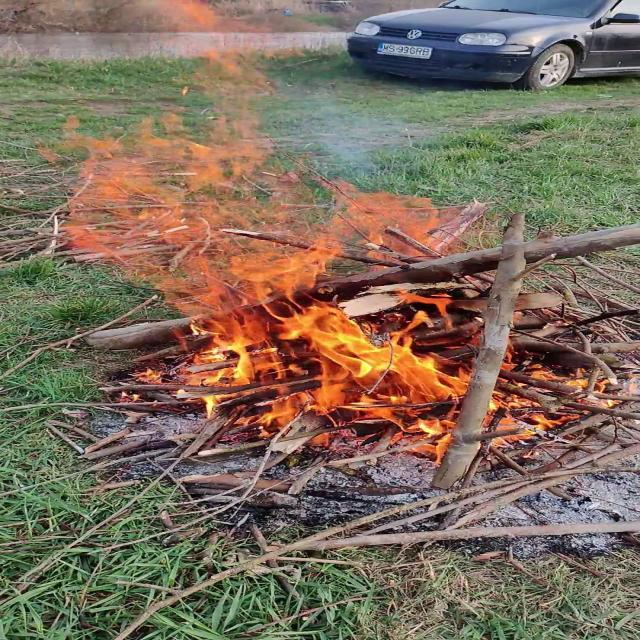Fire: (83, 3, 567, 431)
